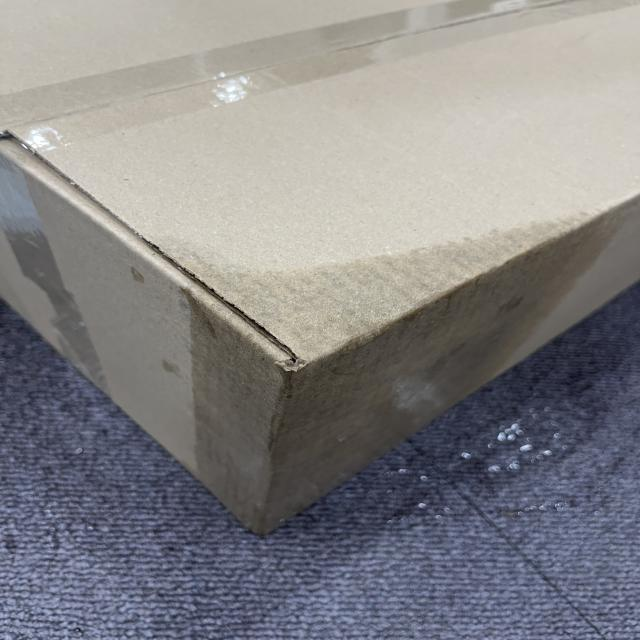wet: (122, 162, 638, 520)
